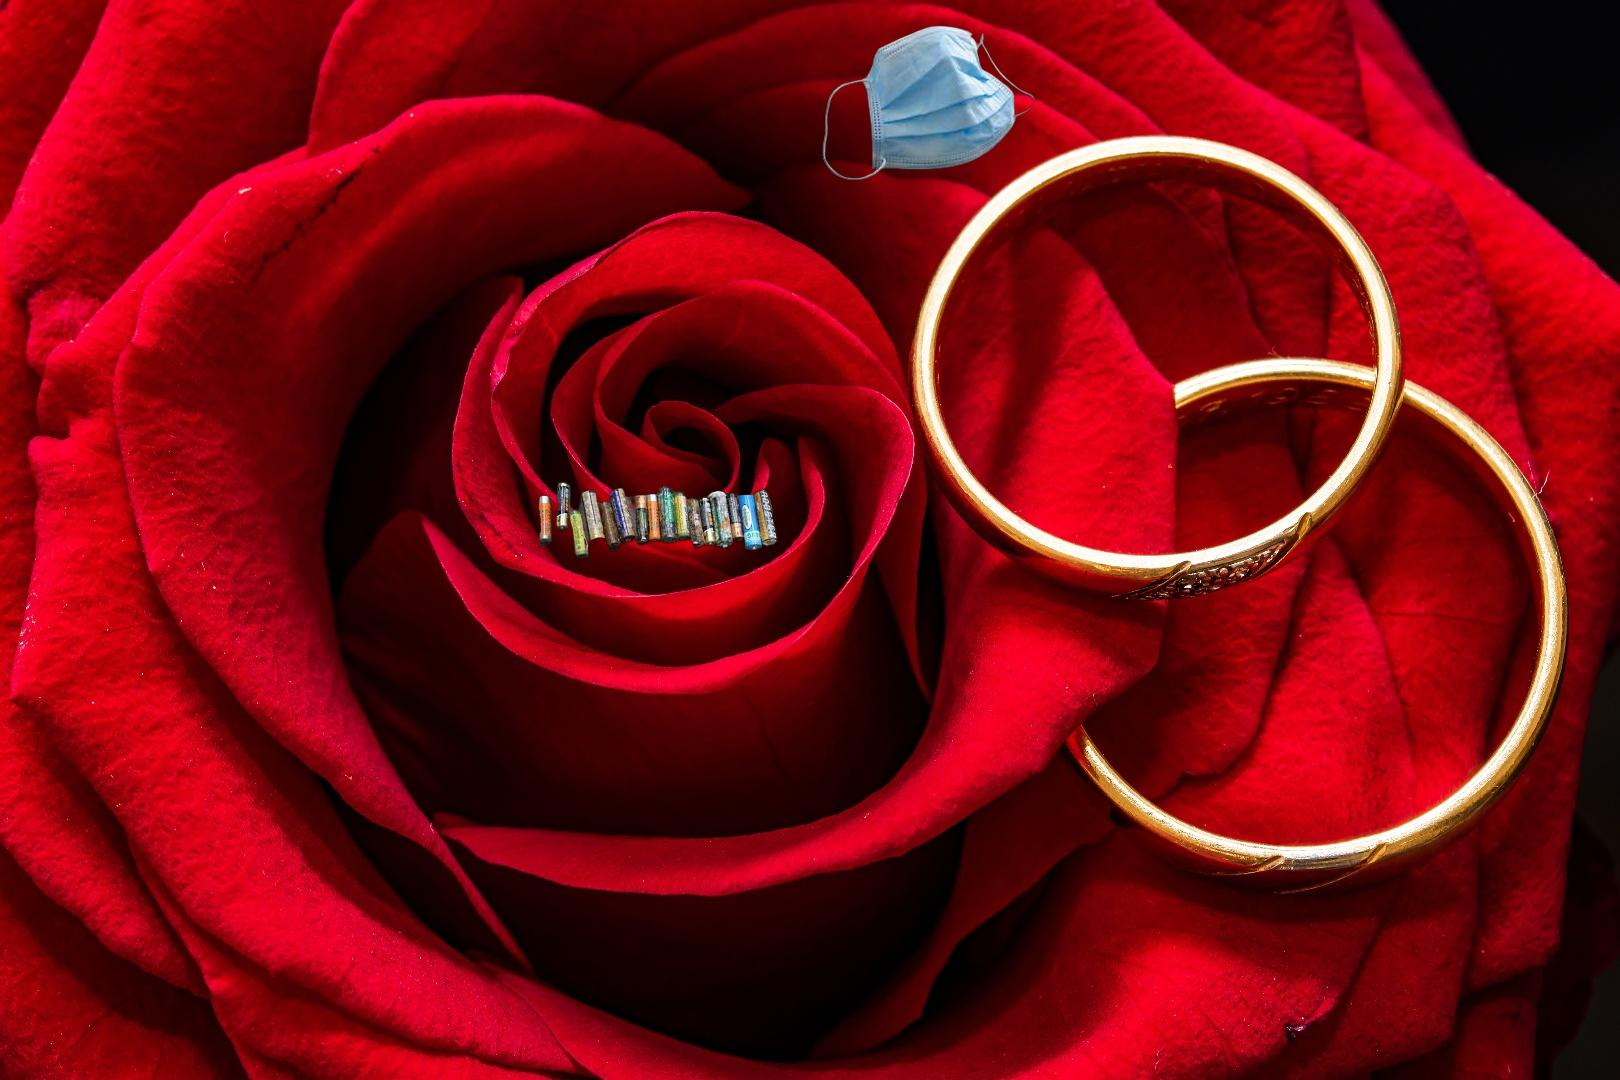battery: (536, 479, 781, 562)
trash: (820, 23, 1037, 183)
